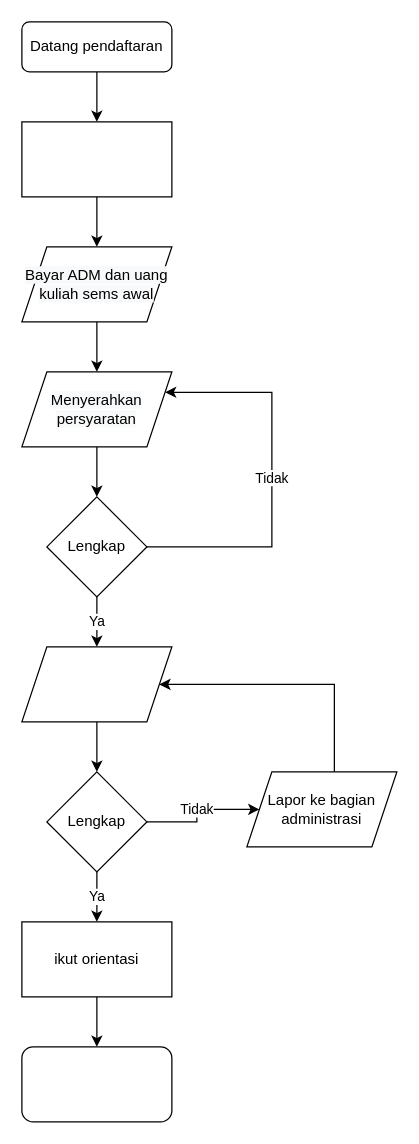
Some shapes in this 419 by 1144 pixel diagram are drawn without their labels. The shapes that lost their labels are listed below. From the top down, each one's centre as x and y in pixels, then its label:
point 96,159: Beli dan isi formulir
point 96,684: Menerima peralatan kampus hingga operasional
point 96,1084: Kuliah berjalan
